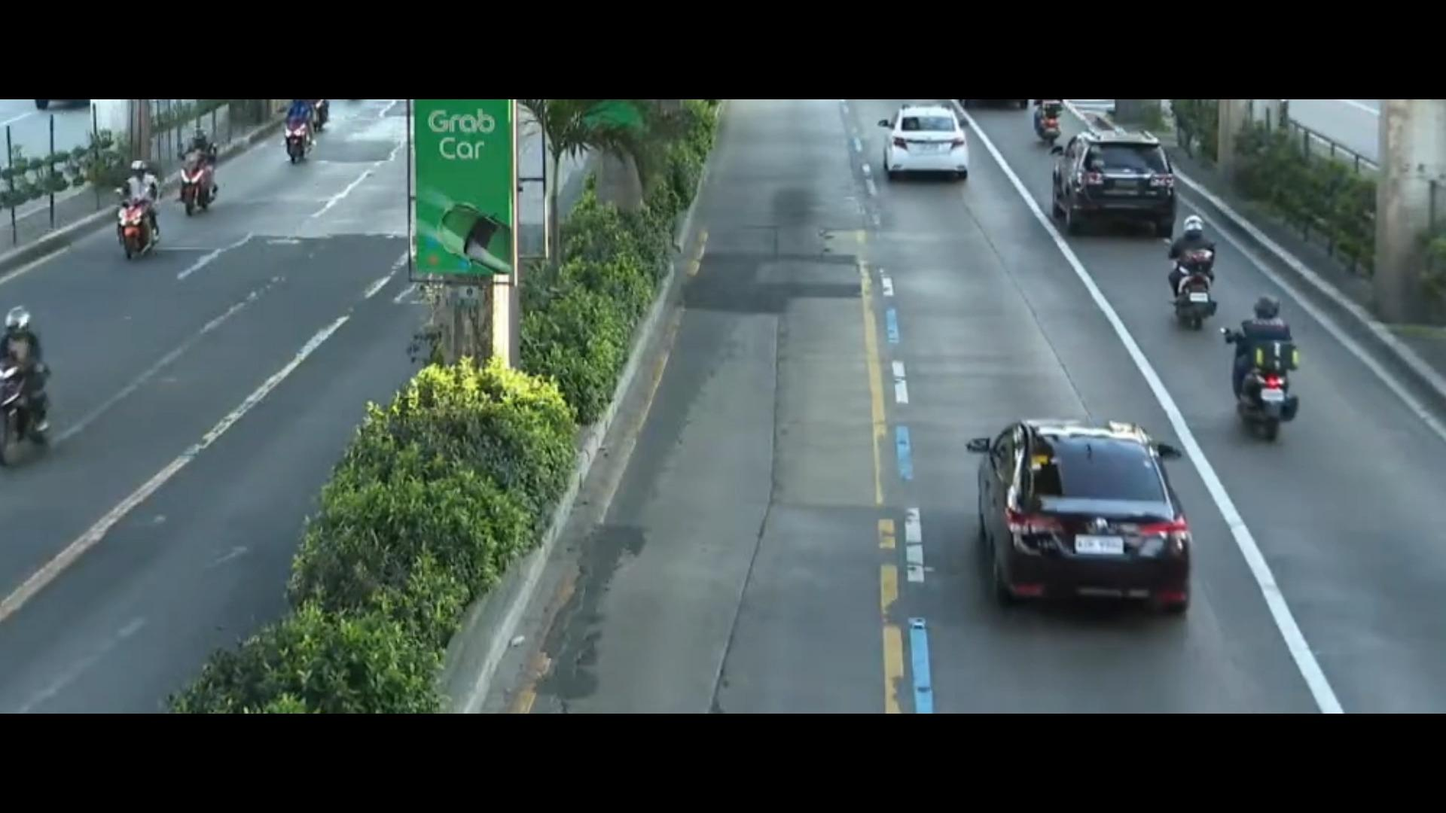Motorcycle: (1212, 292, 1330, 444), (0, 317, 91, 494), (1132, 202, 1232, 343), (91, 157, 166, 270), (176, 130, 232, 215), (256, 110, 337, 163), (1033, 95, 1084, 137)
SUV: (1031, 126, 1203, 226)
Sedan: (942, 397, 1204, 627), (853, 89, 995, 211)
